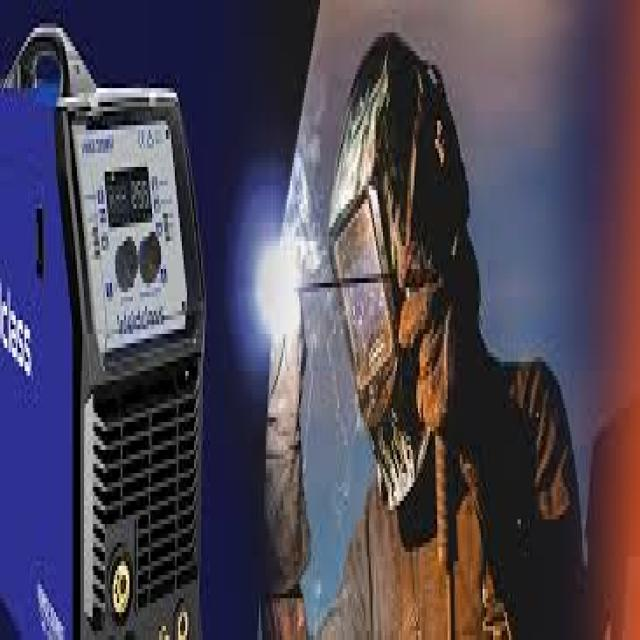welding: (256, 238, 302, 338)
